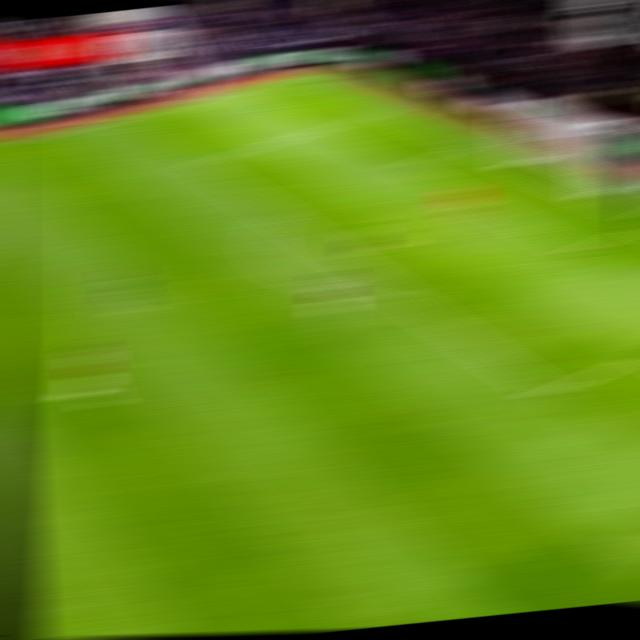bigarea_bottom_inner: (526, 379, 569, 404)
bigarea_top_inner: (179, 153, 215, 172)
bigarea_top_outter: (367, 102, 400, 118)
bottom_arc_area_intersection: (379, 284, 416, 305)
corner: (278, 68, 317, 81)
smallarea_bottom_inner: (557, 236, 596, 260)
smallarea_top_inner: (383, 156, 420, 174)
smallarea_top_outter: (445, 136, 482, 153)
top_arc_area_intersection: (258, 206, 293, 221)
